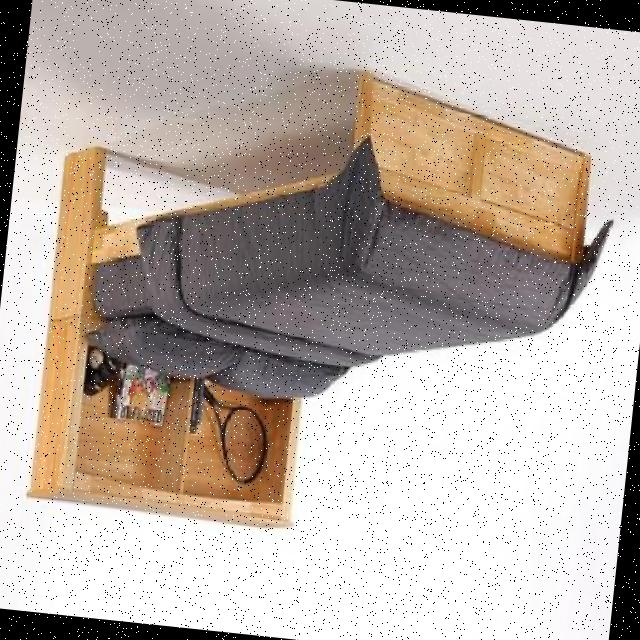Bed: (12, 35, 626, 578)
